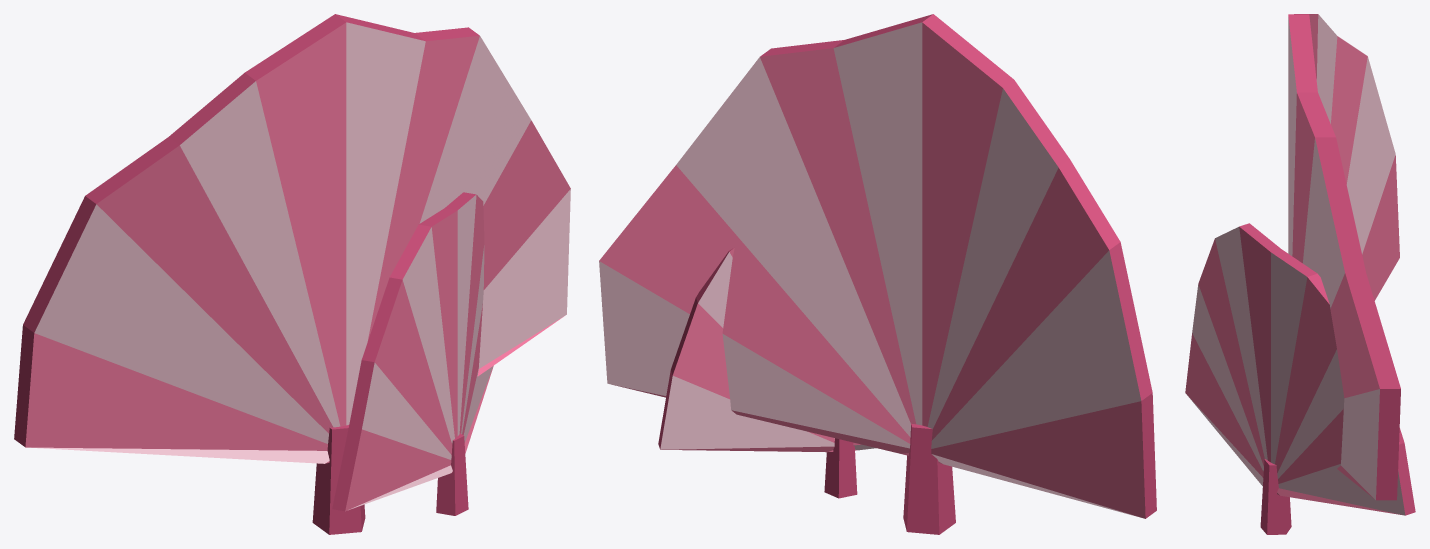
The model's file is coral_fan_pink.fbx.
The picture shows the model from 3 angles, left to right: view 1: azimuth 30°, elevation 25°; view 2: azimuth 150°, elevation 25°; view 3: azimuth 270°, elevation 25°; orthographic projection. The views are drawn at different scales.
Visible parts, largest first — view 1: coral_fan_pink; view 2: coral_fan_pink; view 3: coral_fan_pink.
Part boxes in pixels (bbox=[...]): coral_fan_pink: bbox=[14, 14, 570, 534]; coral_fan_pink: bbox=[599, 14, 1156, 534]; coral_fan_pink: bbox=[1185, 14, 1415, 534].
Bounding box in the file's own units: 890 × 788 × 350.
Materials: 1 (1 with a texture image).
